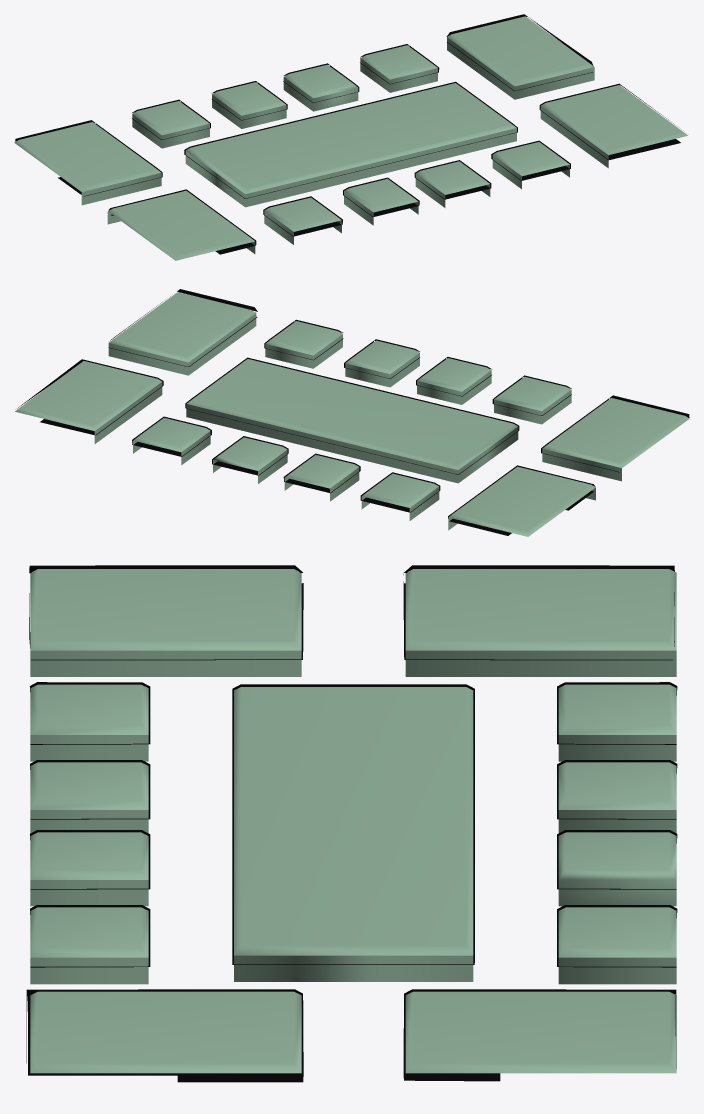
Rendered from pm-pattern-cube.glb.
3 renders of one model, top to bottom at view 1: azimuth 30°, elevation 25°; view 2: azimuth 150°, elevation 25°; view 3: azimuth 270°, elevation 25°, orthographic. The views are drawn at different scales.
Visible parts, largest first — view 1: Pattern_Cube; view 2: Pattern_Cube; view 3: Pattern_Cube.
Boxes of the visible parts, x1,y1,x2,y2 form: Pattern_Cube: [14, 14, 687, 260]; Pattern_Cube: [15, 289, 689, 536]; Pattern_Cube: [26, 565, 677, 1082].
Bounding box in the file's own units: 9.12 × 0.2994 × 5.
2 materials, 1 textured.
